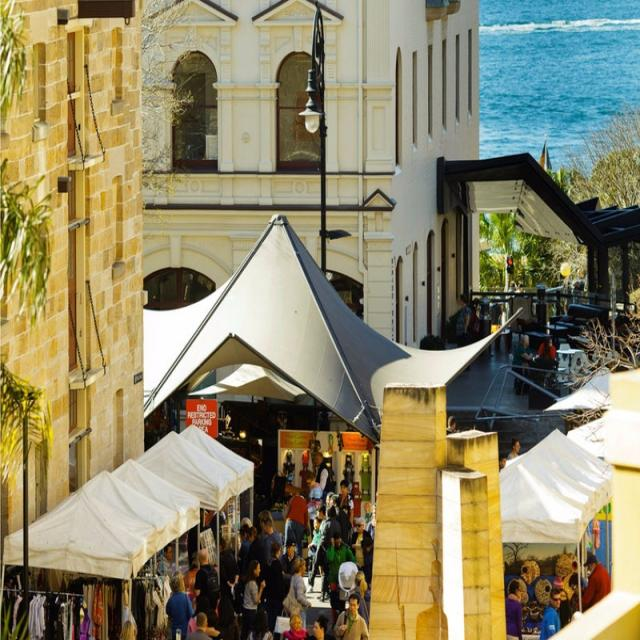body: (444, 294, 561, 472), (3, 549, 198, 640), (212, 489, 378, 588), (324, 530, 357, 629), (282, 556, 312, 632), (238, 558, 266, 639), (193, 548, 220, 628), (263, 541, 285, 636), (581, 554, 612, 616), (318, 504, 344, 577), (282, 489, 309, 558), (165, 576, 194, 640), (332, 591, 370, 639), (255, 508, 282, 570), (280, 536, 306, 600), (214, 534, 238, 603), (305, 470, 324, 550), (260, 514, 286, 567), (510, 333, 533, 392), (504, 578, 523, 640), (350, 516, 372, 568), (539, 586, 560, 640), (335, 478, 356, 528), (354, 570, 372, 628), (279, 609, 313, 639), (454, 293, 472, 349), (568, 571, 588, 614), (185, 611, 213, 639), (314, 451, 332, 494), (155, 542, 174, 576), (312, 613, 330, 640)
